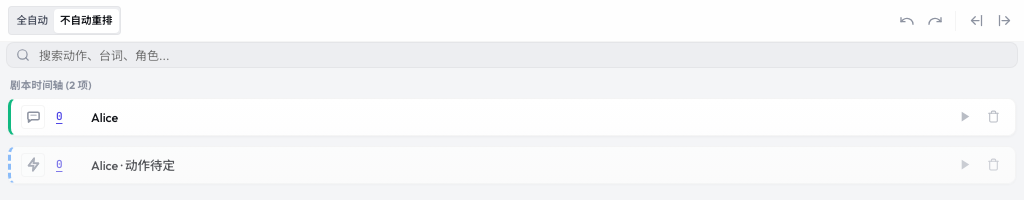
placeholder search by auto-bound character › filters the placeholder out when searching an unrelated character
Type "Taki" into the field named "搜索时间轴动作、台词或角色" at coordinates (512, 55), box [6,42,1018,68]
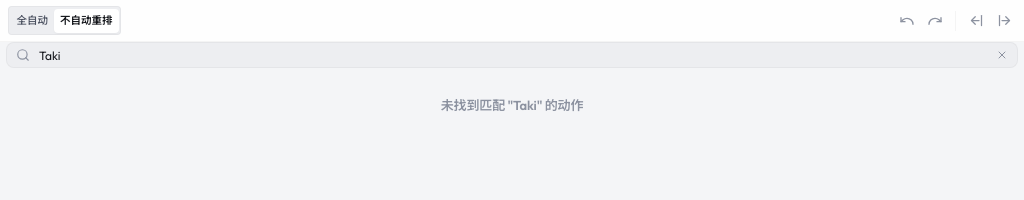
Now the button "动作待定" is gone
Now the text "未找到匹配 \"Taki\" 的动作" is shown, box [441,96,583,116]
